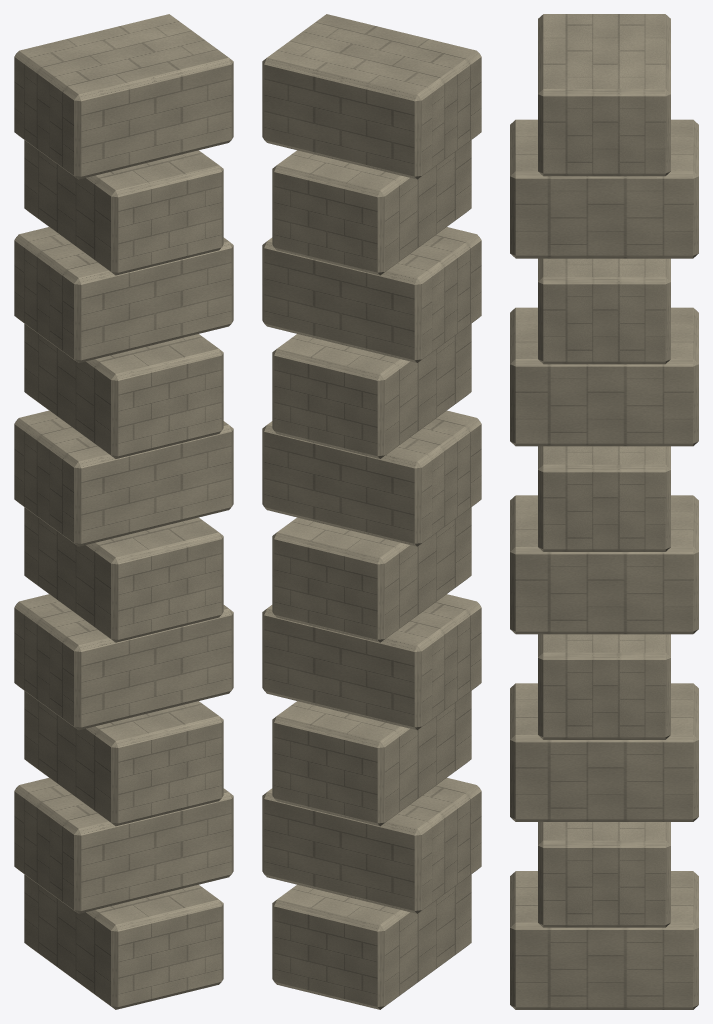
The model's file is module-corner-masonry.glb.
3 renders of one model, left to right at view 1: azimuth 30°, elevation 25°; view 2: azimuth 150°, elevation 25°; view 3: azimuth 270°, elevation 25°, orthographic. The views are drawn at different scales.
Parts seen in each view (by area): view 1: module-corner-masonry; view 2: module-corner-masonry; view 3: module-corner-masonry.
Boxes of the visible parts, x1,y1,x2,y2 form: module-corner-masonry: (14, 14, 233, 1009); module-corner-masonry: (262, 14, 481, 1009); module-corner-masonry: (510, 14, 698, 1009).
Bounding box in the file's own units: 0.51 × 2.78 × 0.51.
Materials: 1 (1 with a texture image).
